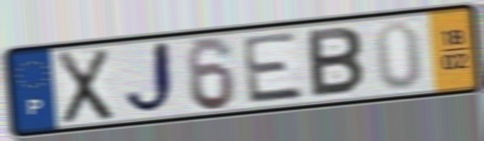0: (373, 19, 426, 93)
6: (183, 34, 239, 114)
B: (305, 25, 367, 101)
E: (239, 29, 308, 107)
J: (121, 38, 179, 119)
X: (54, 46, 115, 128)
